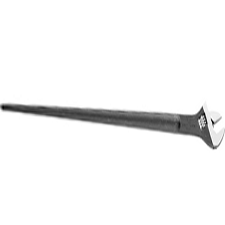Wrench: (3, 94, 225, 154)
